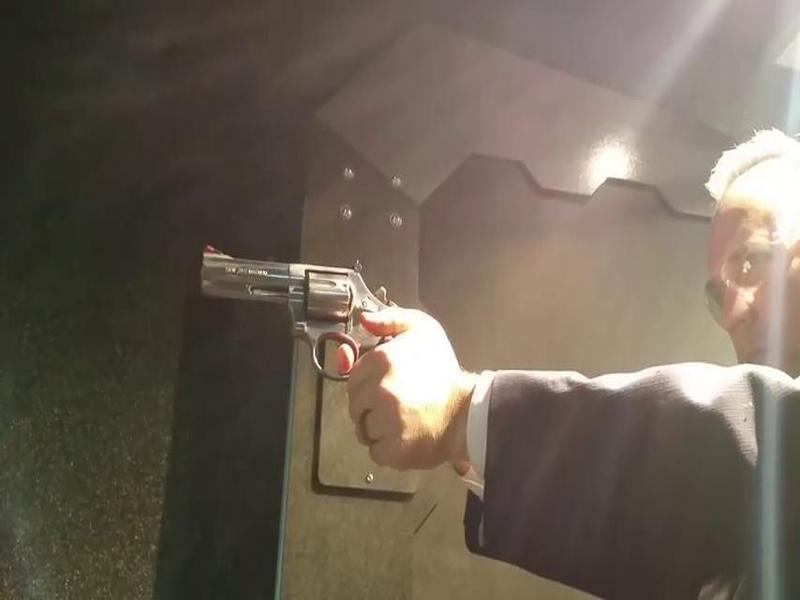Revolver: (194, 234, 409, 392)
